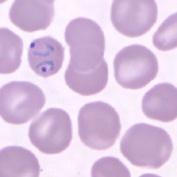Infected: (26, 36, 64, 78)
Uninfected: (119, 122, 173, 169), (66, 17, 105, 74), (77, 100, 119, 151), (28, 107, 73, 154), (113, 43, 158, 88), (109, 0, 158, 39), (63, 56, 108, 95), (10, 0, 53, 34), (142, 82, 177, 122), (0, 146, 41, 177), (152, 12, 177, 51)
